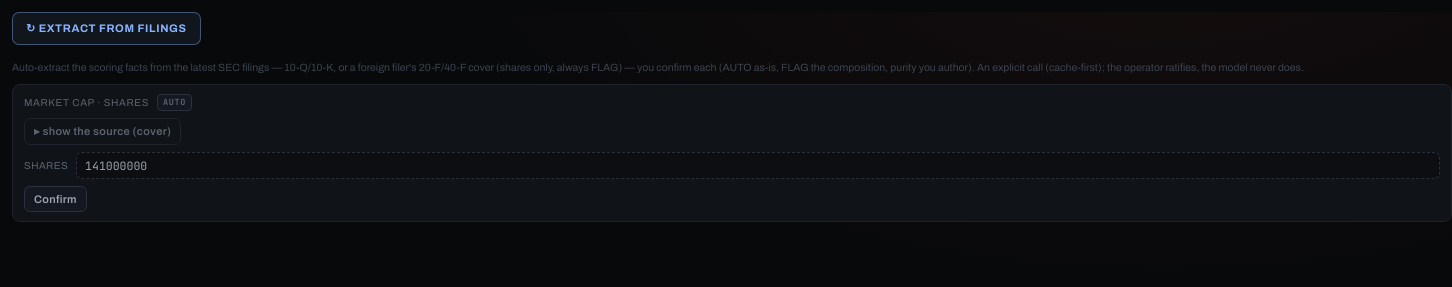
Scenario: FactsPanel — extract → ratify › AUTO's source is collapsed behind a toggle; one click shows the located passage
Expected: the text "shares of common stock outstanding" is not shown
What coordinates should you click on to do the following:
click the button "▸ show the source (cover)"
I would click on:
 (103, 131)
Its box is x1=24 y1=118 x2=181 y2=144.
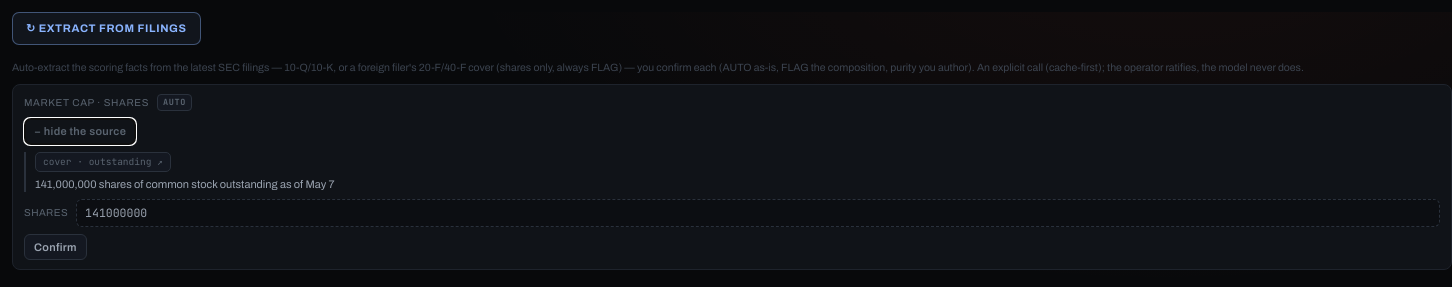
Expected: the text "141,000,000 shares of common stock outstanding as of May 7" is shown, x1=35 y1=178 x2=335 y2=190
What coordinates should you click on to do the following:
click the button "− hide the source"
I would click on:
 (80, 131)
Its box is x1=24 y1=118 x2=136 y2=144.
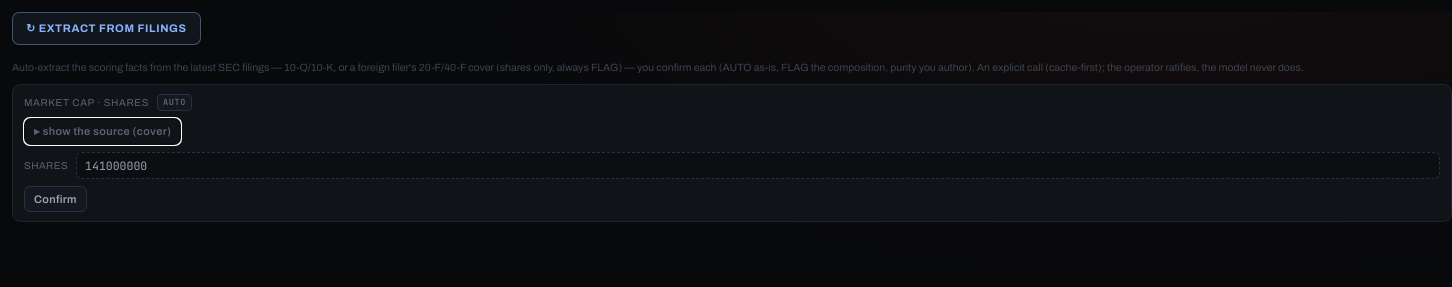
Expected: the text "shares of common stock outstanding" is gone
